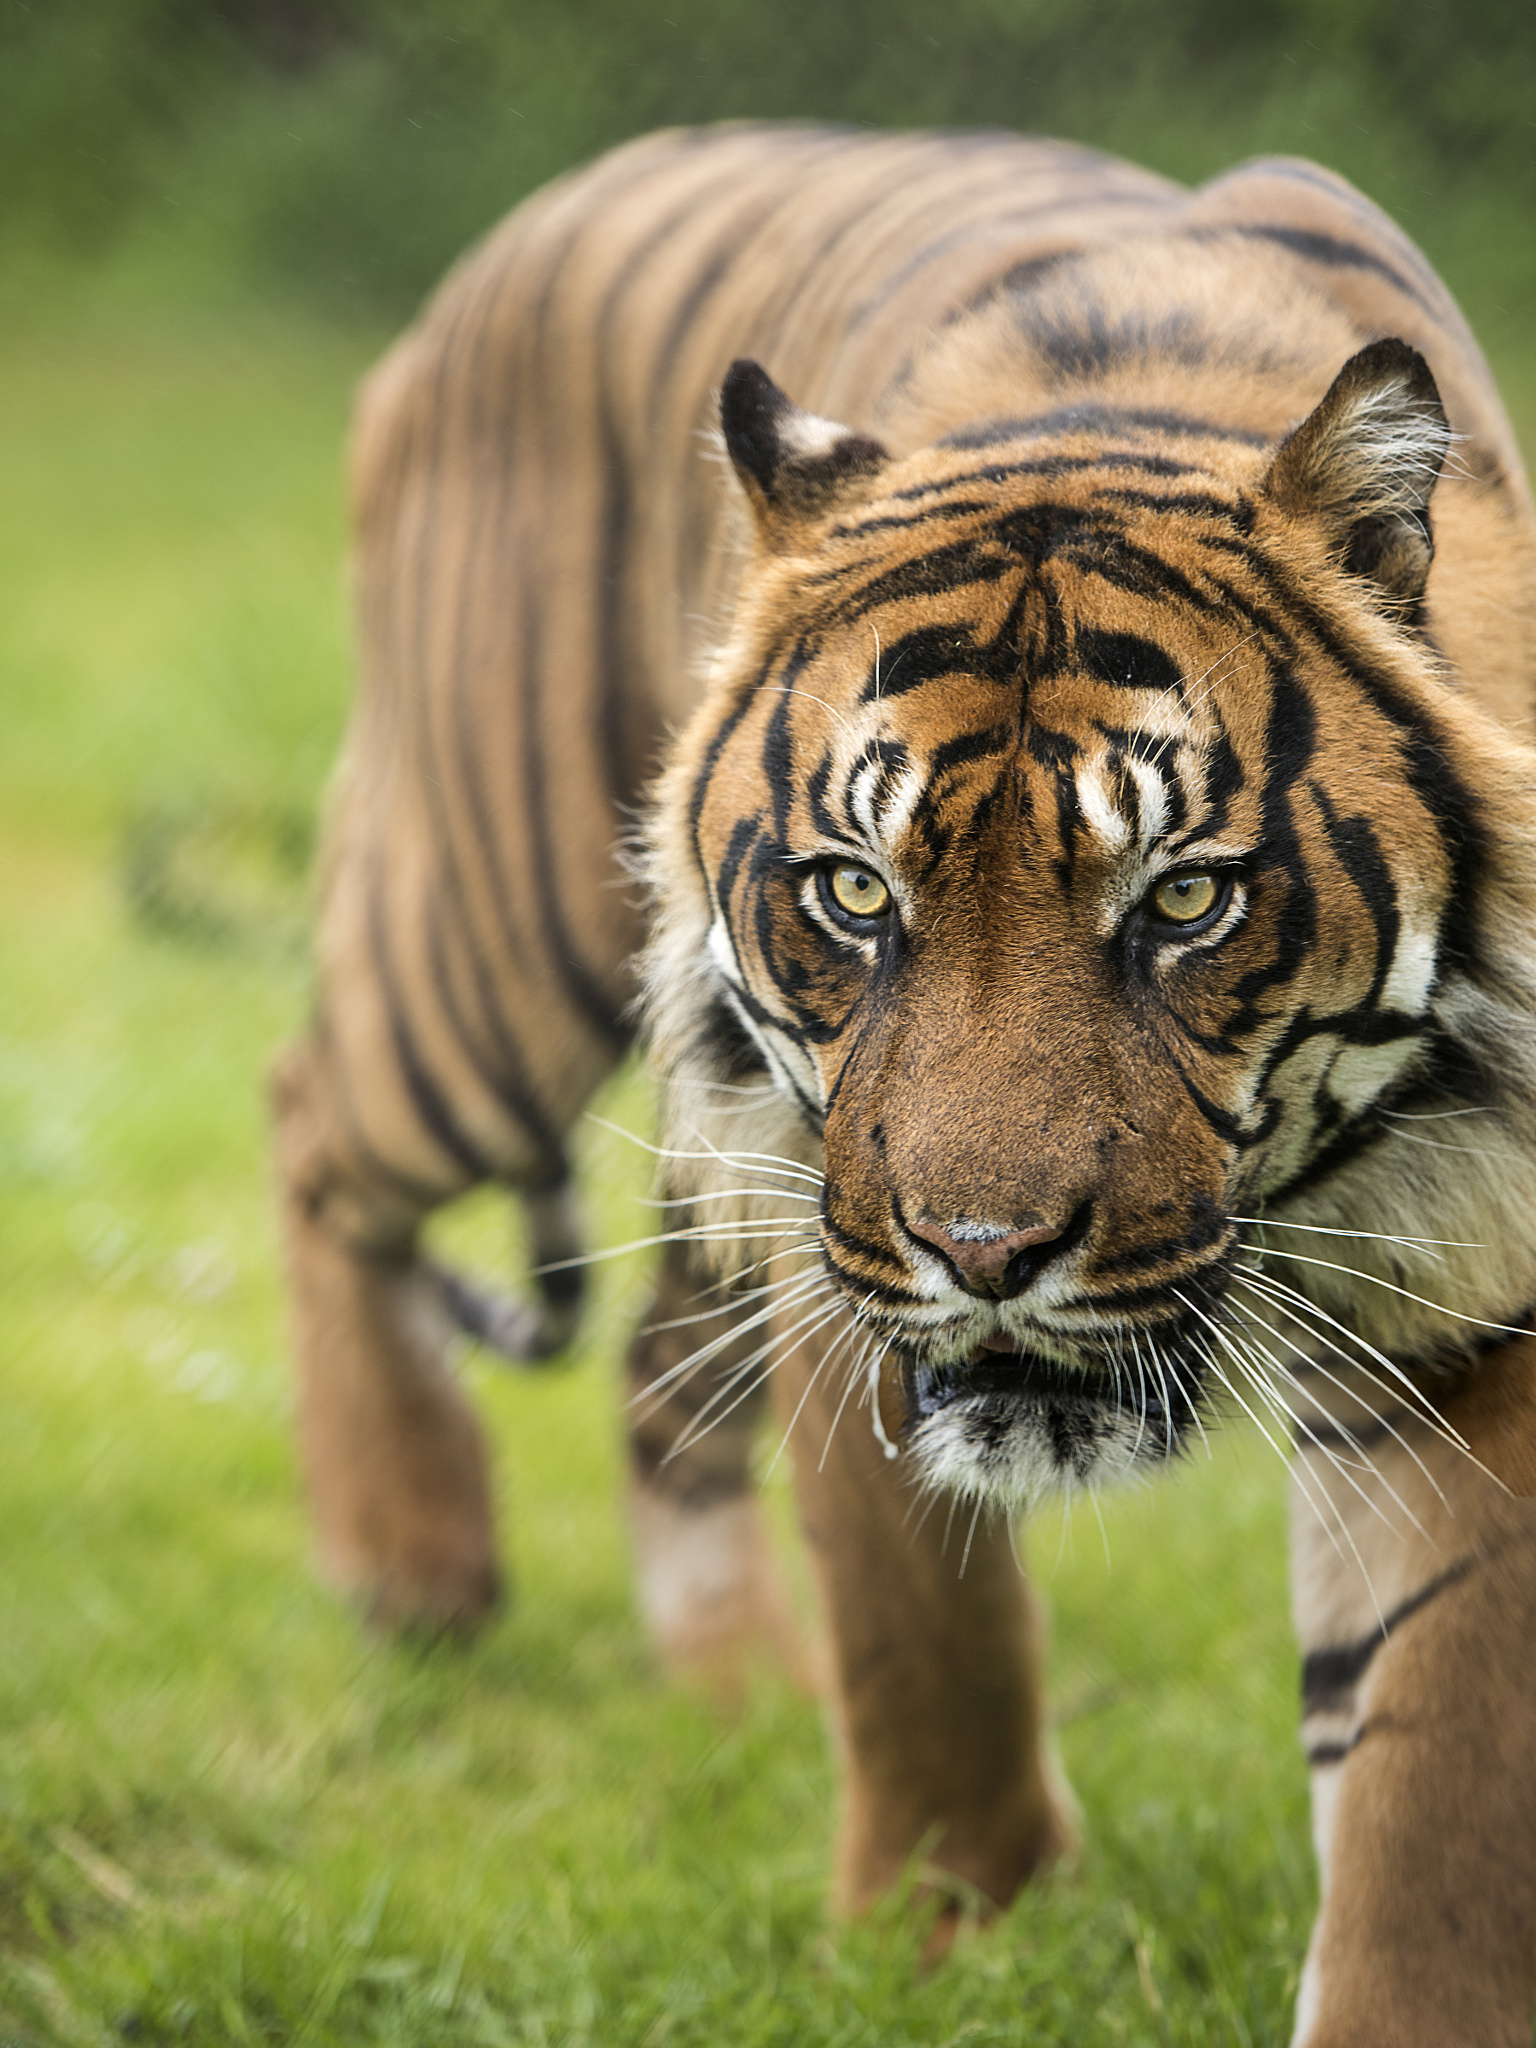tiger: (323, 185, 1515, 1866)
